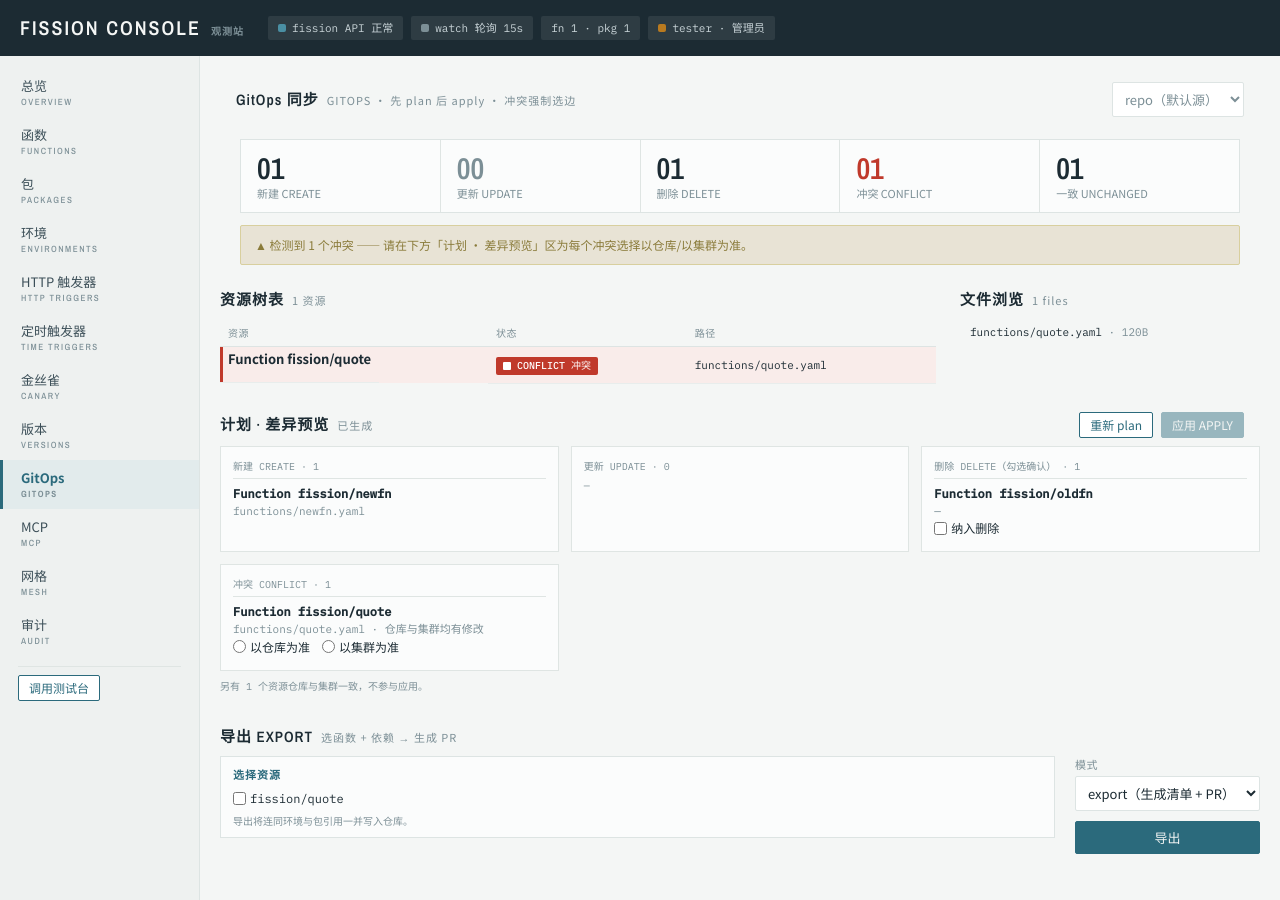
J7 · GitOps 旅程 › case3 导出：勾选函数 → POST export → 结果文案含 prUrl
Expected: the text "GitOps 同步" is shown, [236,89,319,110]
When：勾选 fission/quote，点「导出」
Click the checkbox labelled "fission/quote".
click(240, 798)  # box [233,792,246,805]
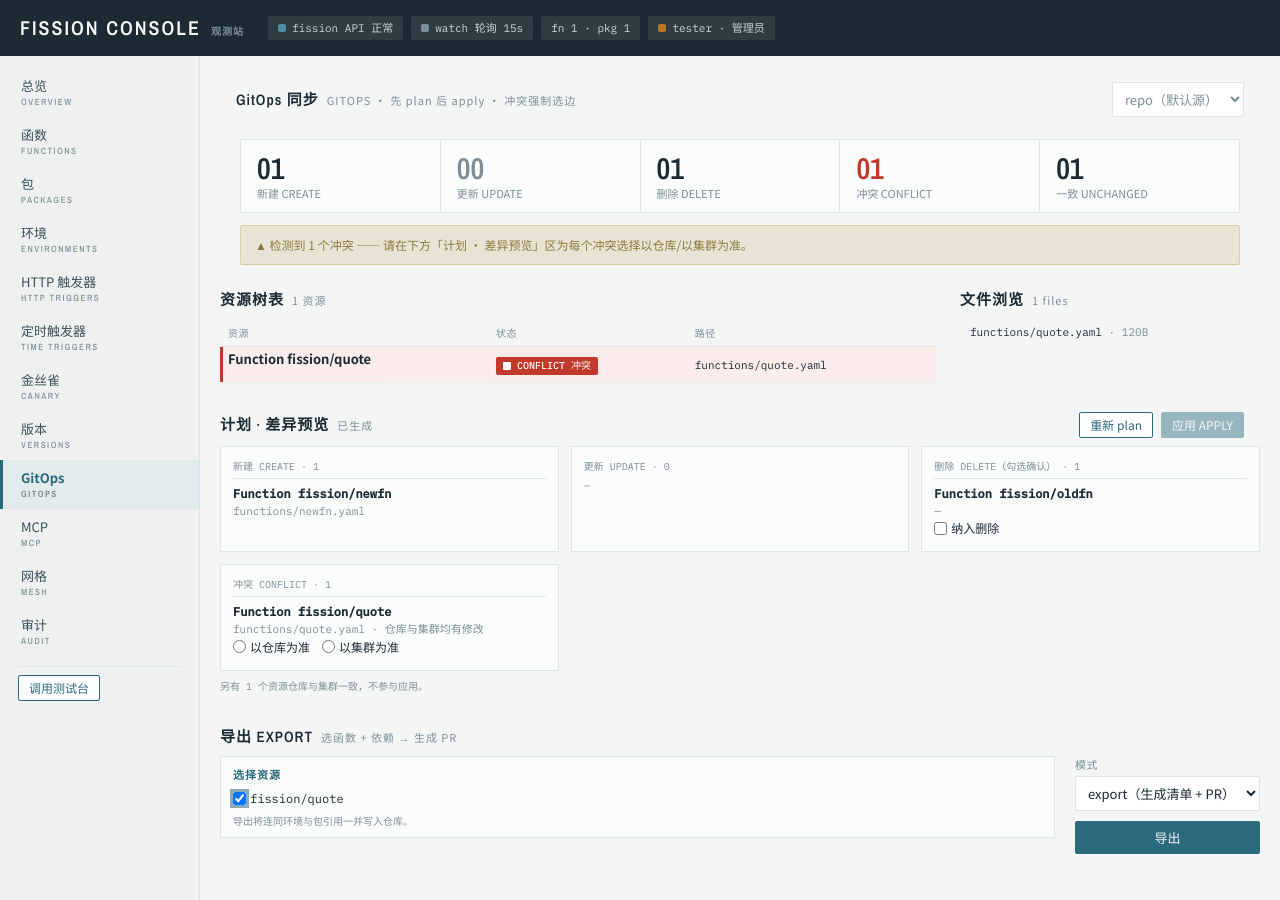
Click the button "导出".
click(1168, 837)  # box [1075,820,1260,854]
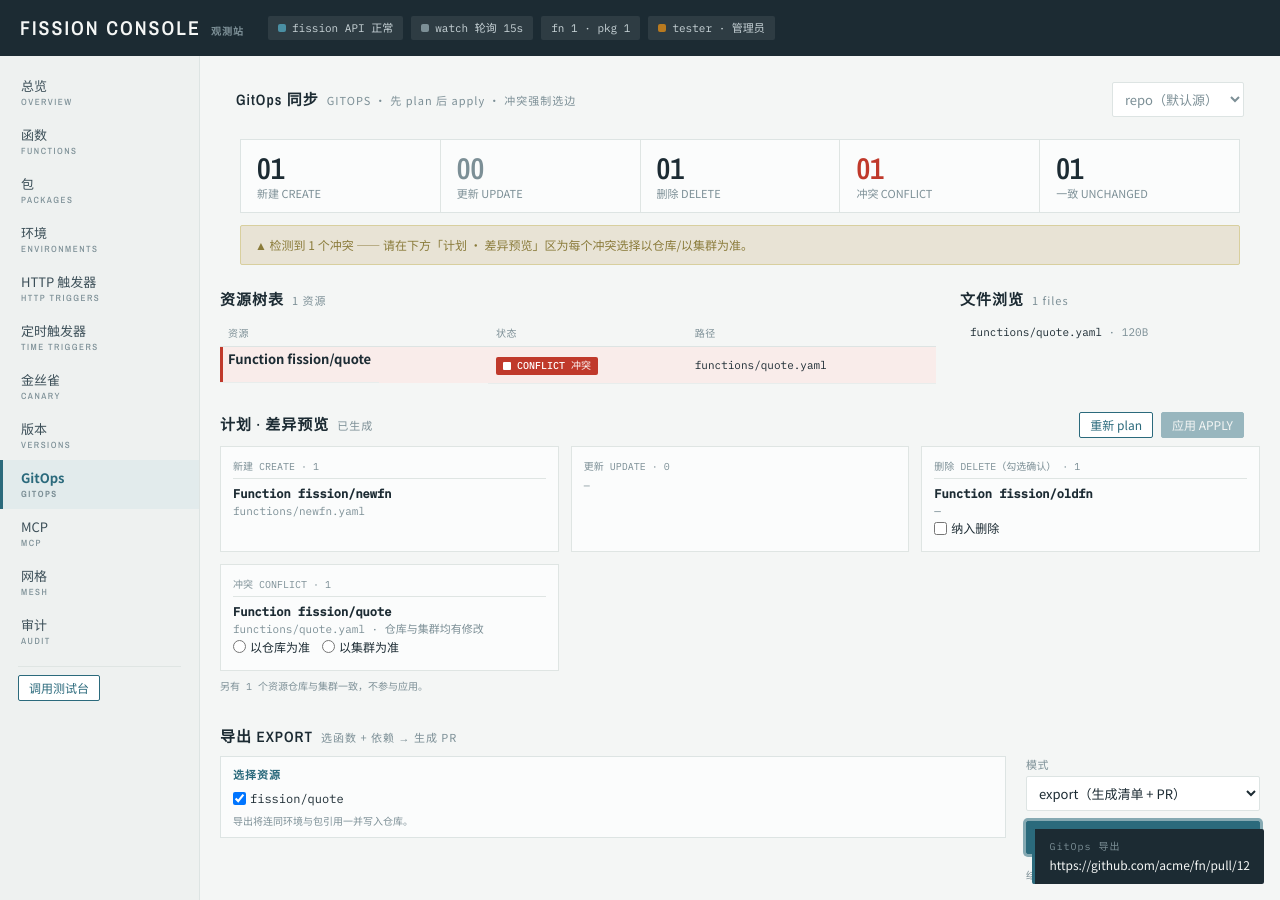
Expected: the text "结果：https://github.com/acme/fn/pull/12" is shown, [1026,868,1260,883]
